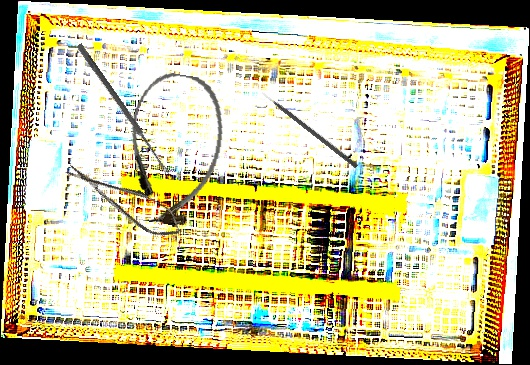Cannula: (116, 68, 232, 231)
Hook Surgical: (260, 89, 360, 169)
Micro Scissor: (61, 152, 188, 247)
Surgical Spoon: (75, 43, 172, 176)
